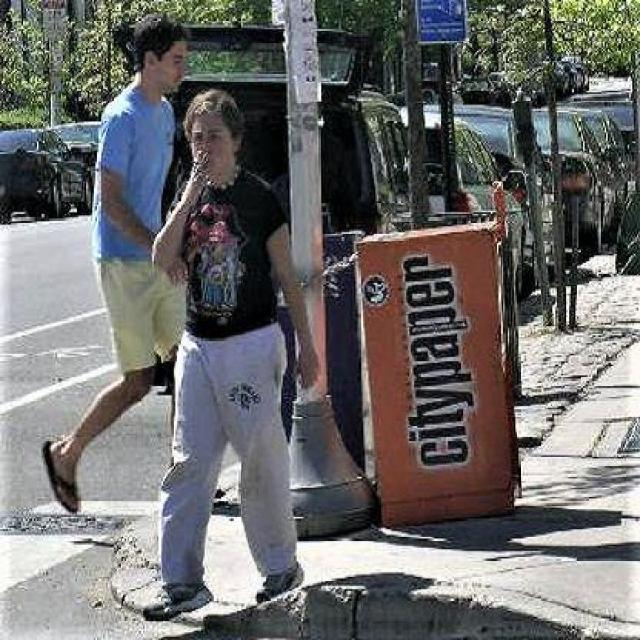Person: (150, 83, 321, 617), (33, 11, 195, 520)
